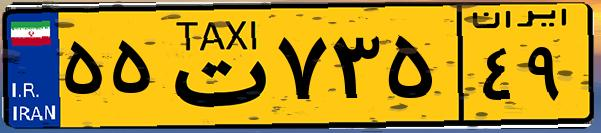3: (330, 28, 385, 110)
4: (475, 38, 525, 113)
5: (385, 28, 445, 110), (57, 26, 110, 100), (110, 28, 158, 98)
7: (270, 28, 330, 110)
9: (525, 38, 570, 115)
ت: (158, 12, 270, 120)
